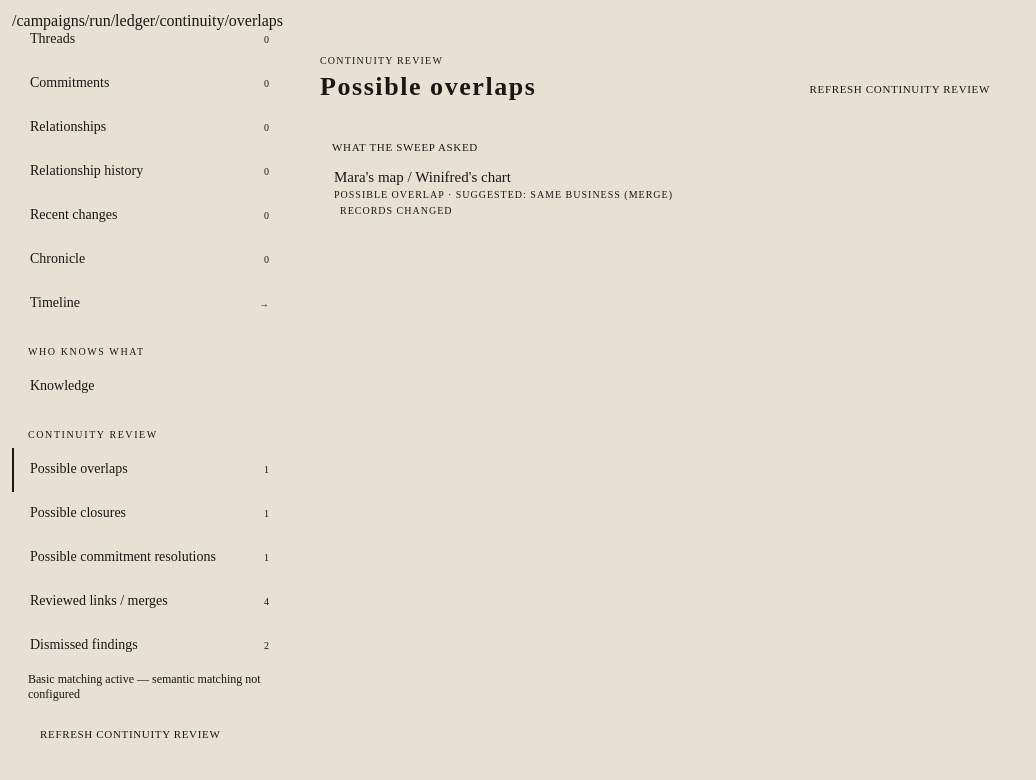
Test: the dismissed group is collapsed until selected
The image size is (1036, 780).
(page scrolled)
Expected: the button "Restore" is not shown
Click the button "Dismissed findings 2" at (84, 645), box [12,624,286,668]
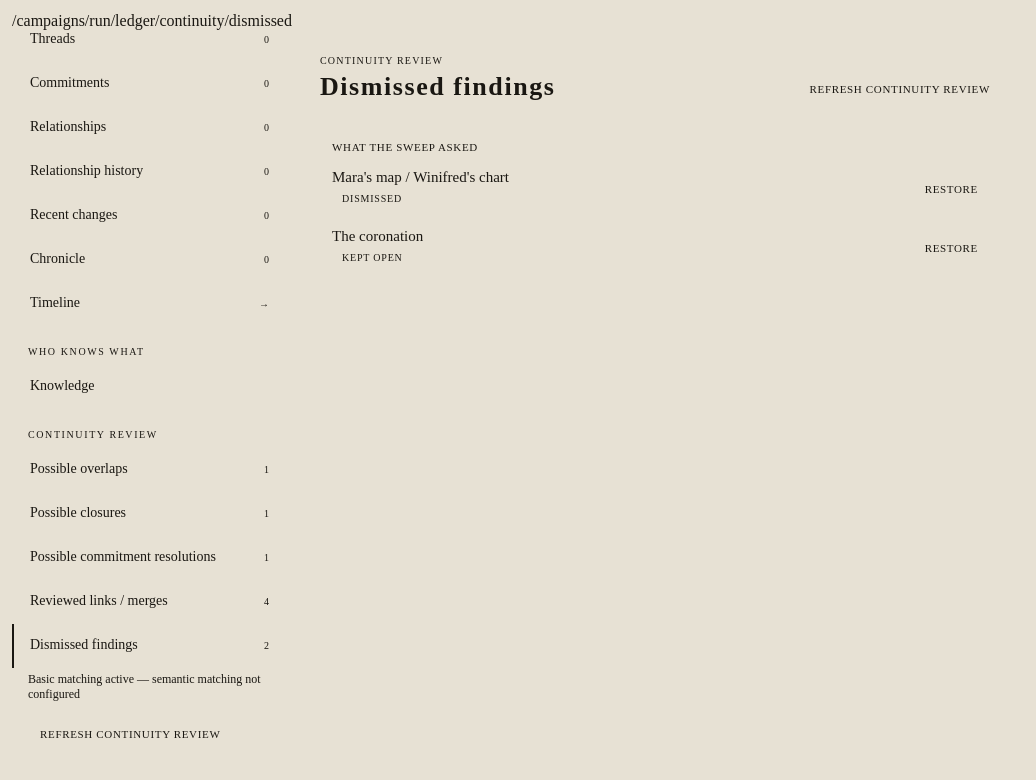
Now the number of buttons "Restore" is 2, box [913,177,990,201]; [913,236,990,260]
